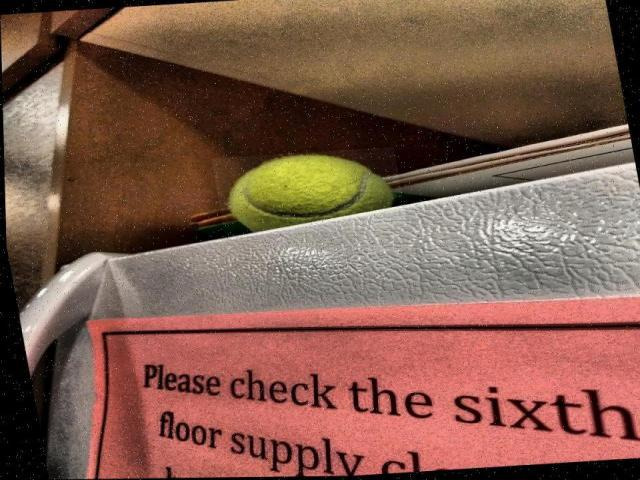tennis-ball: (229, 153, 391, 233)
